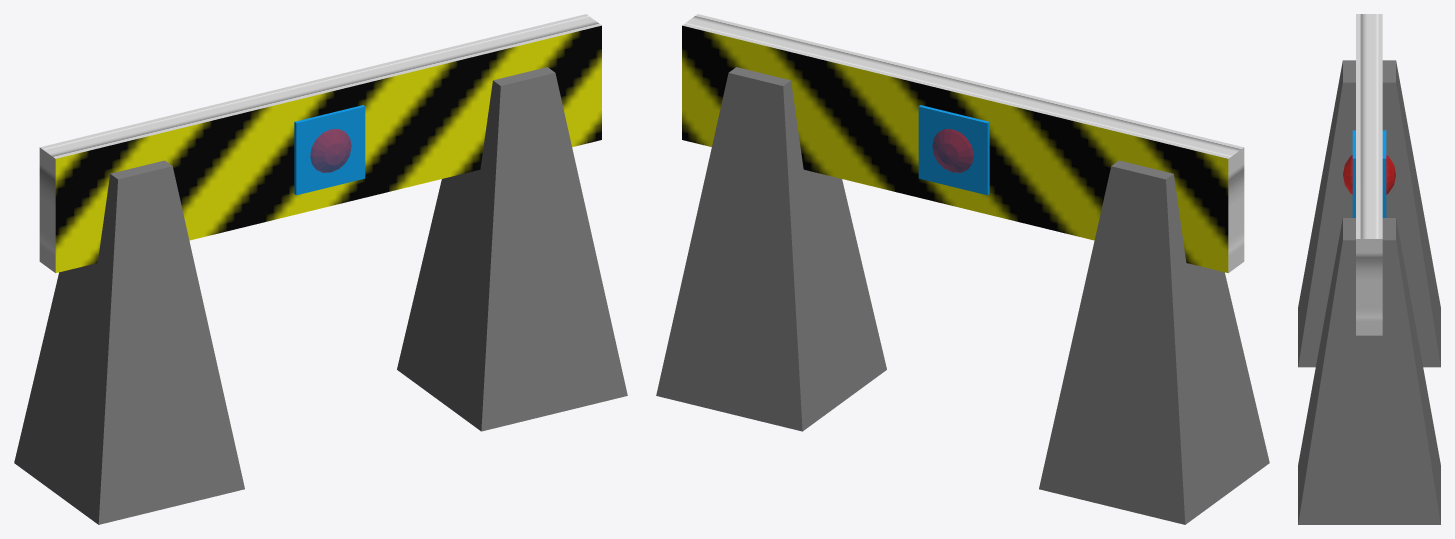
Rendered from barrier0_hi.obj.
The picture shows the model from 3 angles, left to right: view 1: azimuth 30°, elevation 25°; view 2: azimuth 150°, elevation 25°; view 3: azimuth 270°, elevation 25°; orthographic projection. The views are drawn at different scales.
Parts seen in each view (by area): view 1: ColobotMesh_1_ColobotMesh_, plate_Cube, led_Sphere; view 2: ColobotMesh_1_ColobotMesh_, plate_Cube, led_Sphere; view 3: ColobotMesh_1_ColobotMesh_, plate_Cube, led_Sphere.
Boxes of the visible parts, bbox=[...] form: ColobotMesh_1_ColobotMesh_: bbox=[14, 14, 627, 524]; plate_Cube: bbox=[294, 105, 365, 195]; led_Sphere: bbox=[310, 129, 351, 172]; ColobotMesh_1_ColobotMesh_: bbox=[656, 14, 1269, 524]; plate_Cube: bbox=[918, 105, 989, 195]; led_Sphere: bbox=[932, 129, 973, 172]; ColobotMesh_1_ColobotMesh_: bbox=[1298, 14, 1440, 524]; plate_Cube: bbox=[1352, 130, 1386, 217]; led_Sphere: bbox=[1343, 155, 1395, 194].
Bounding box in the file's own units: 10 × 6 × 2.68.
